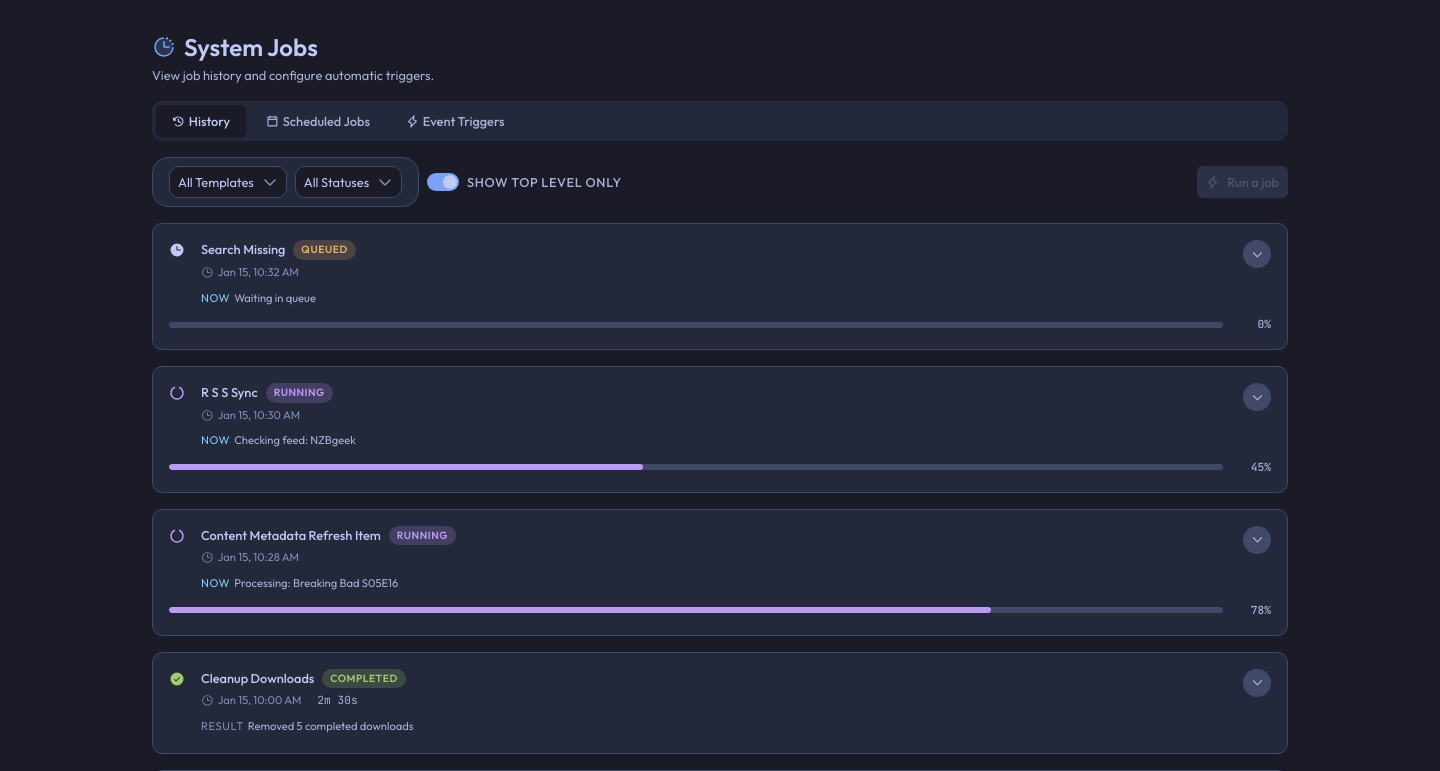
JobsPage Executions tab - filtering › filters executions by status
Click the dropdown named "filter by status": (348, 182) x1=295 y1=166 x2=402 y2=198
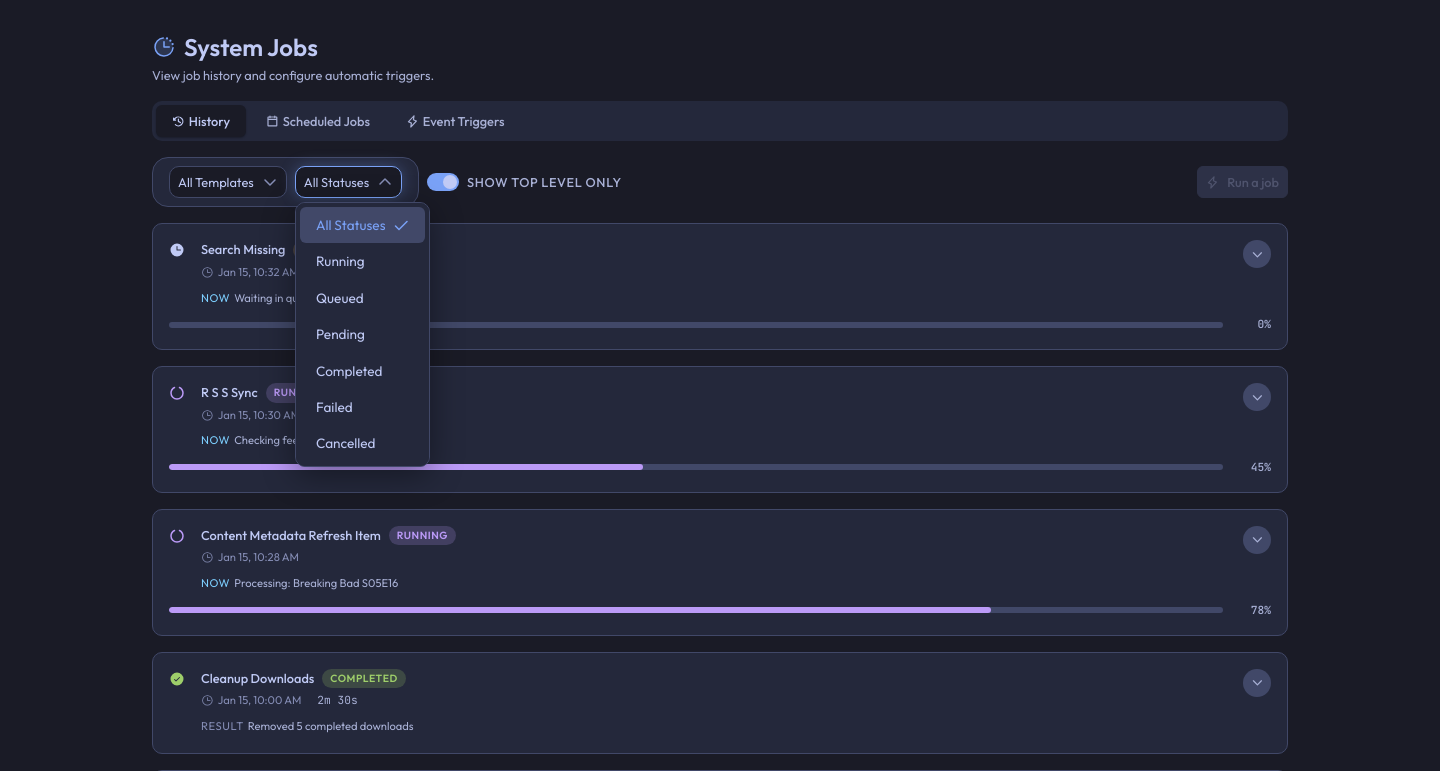
Click the option "Failed": (334, 407) x1=316 y1=398 x2=353 y2=416
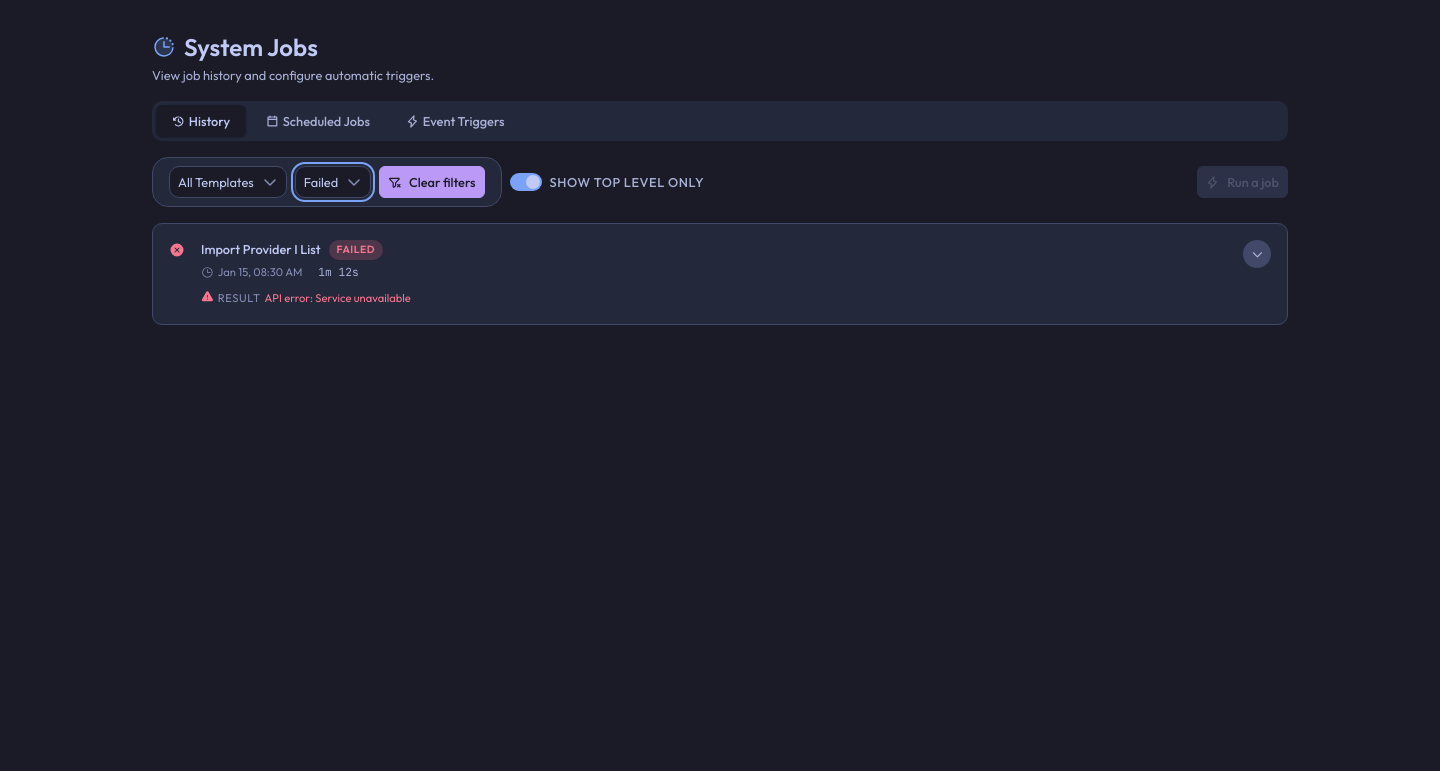
Expected: the number of list items is 1, x1=152 y1=223 x2=1288 y2=325
